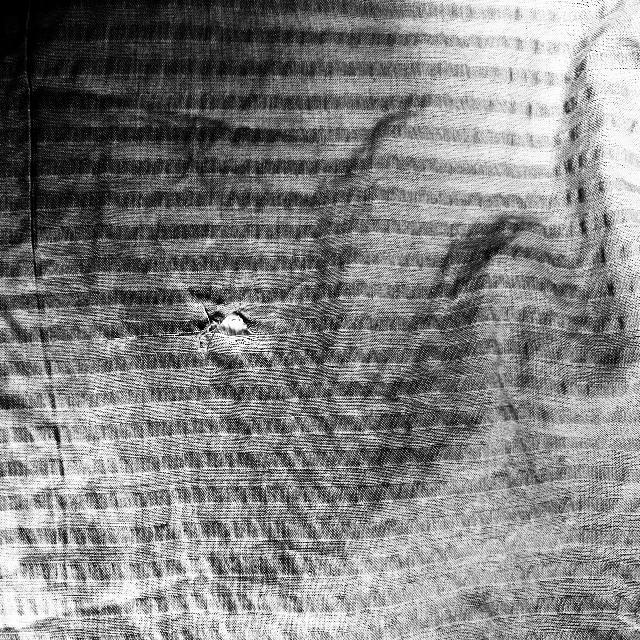Hole: (196, 302, 264, 356)
